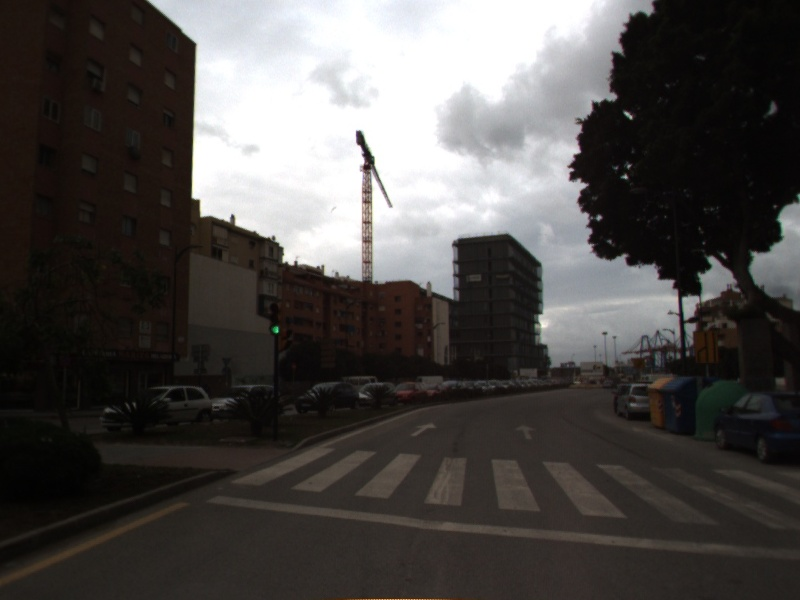STRAIGHT: (408, 420, 439, 438), (513, 422, 539, 441)
